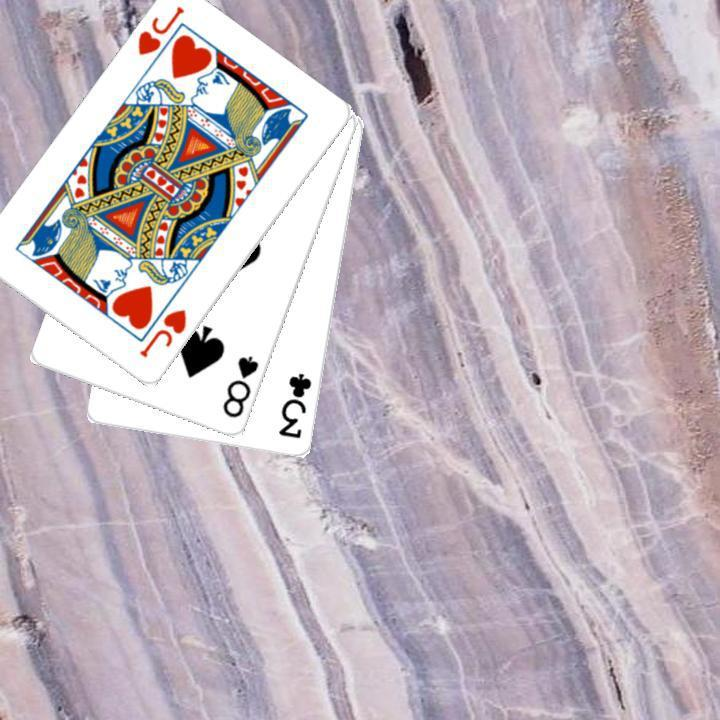3: (275, 369, 314, 441)
8: (218, 351, 261, 421)
J: (133, 2, 187, 58), (135, 305, 189, 360)
